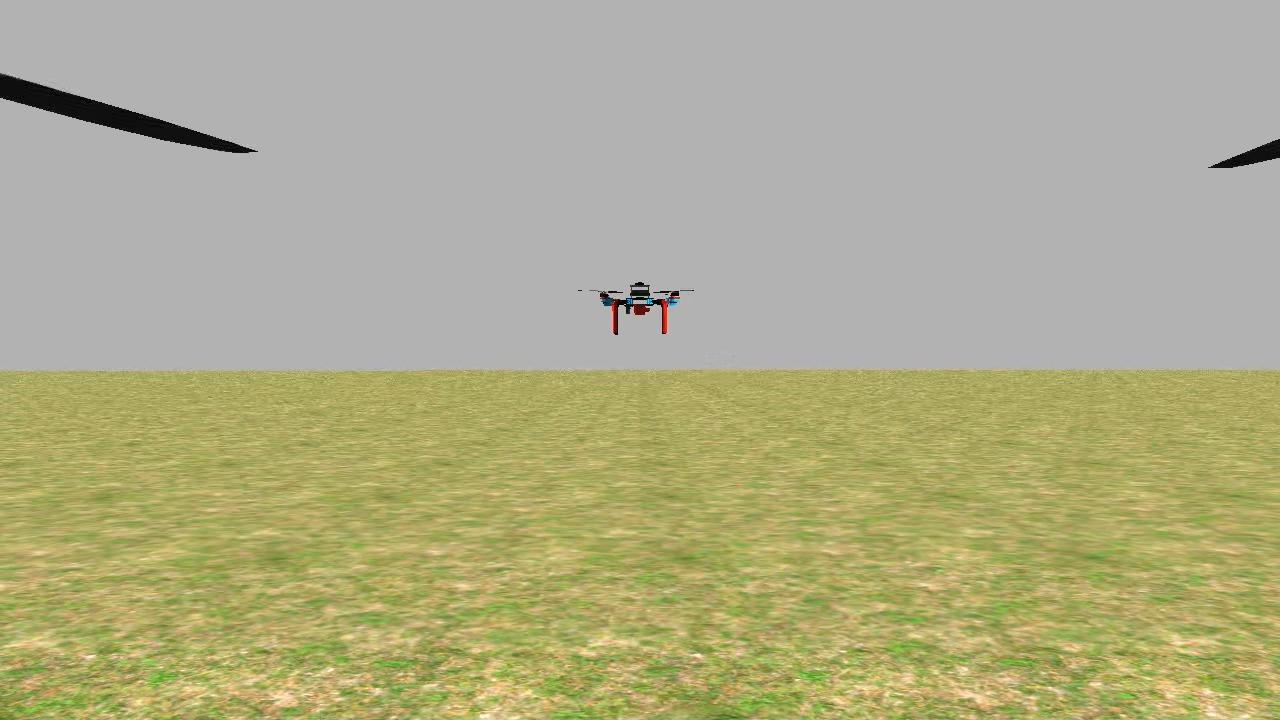UAV: (586, 270, 696, 342)
